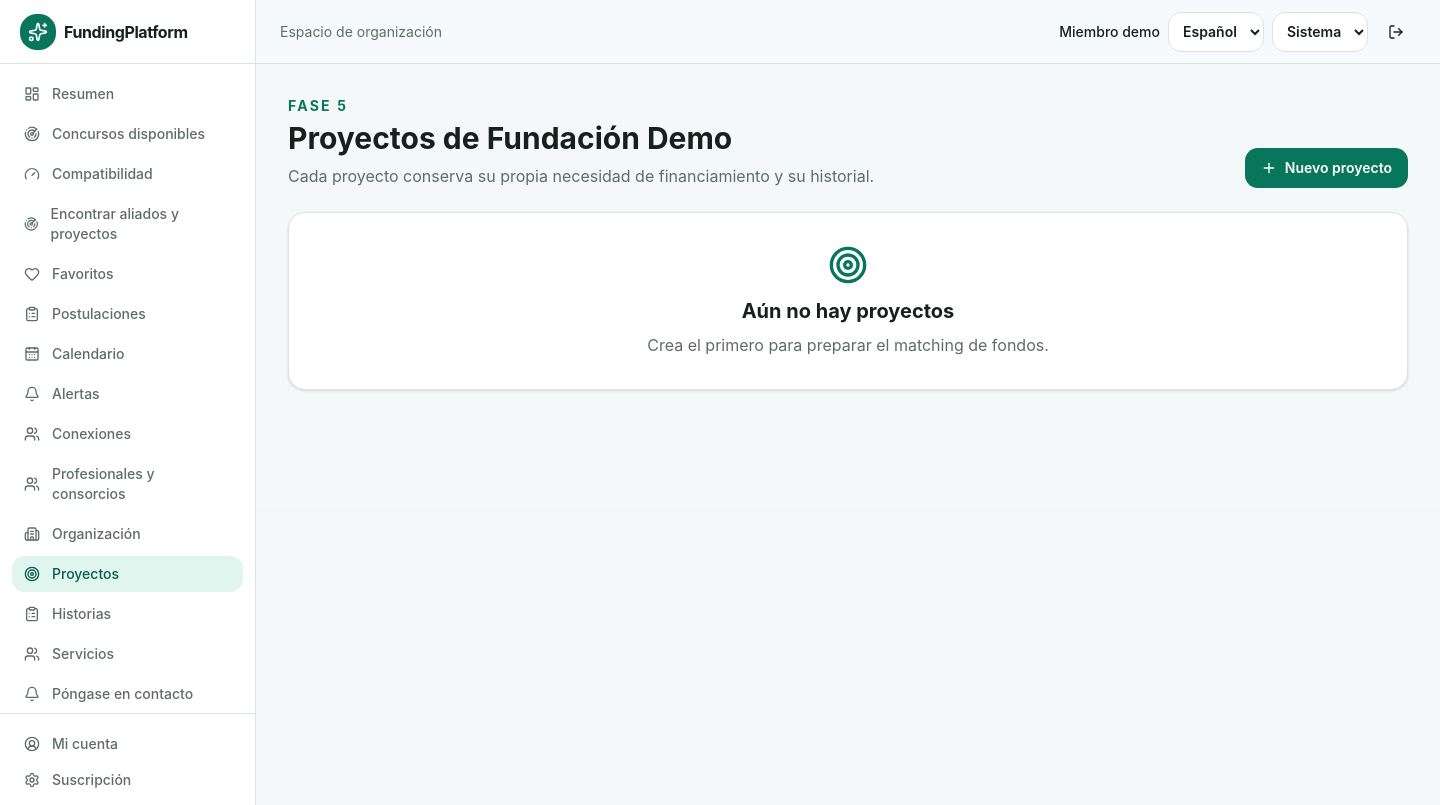
Test case: proyectos › avisa junto a la fecha cuando el término es anterior al inicio
This screenshot has width=1440, height=805.
Step 1. Click the button "Nuevo proyecto" → click(1326, 168), box [1245,148,1408,188]
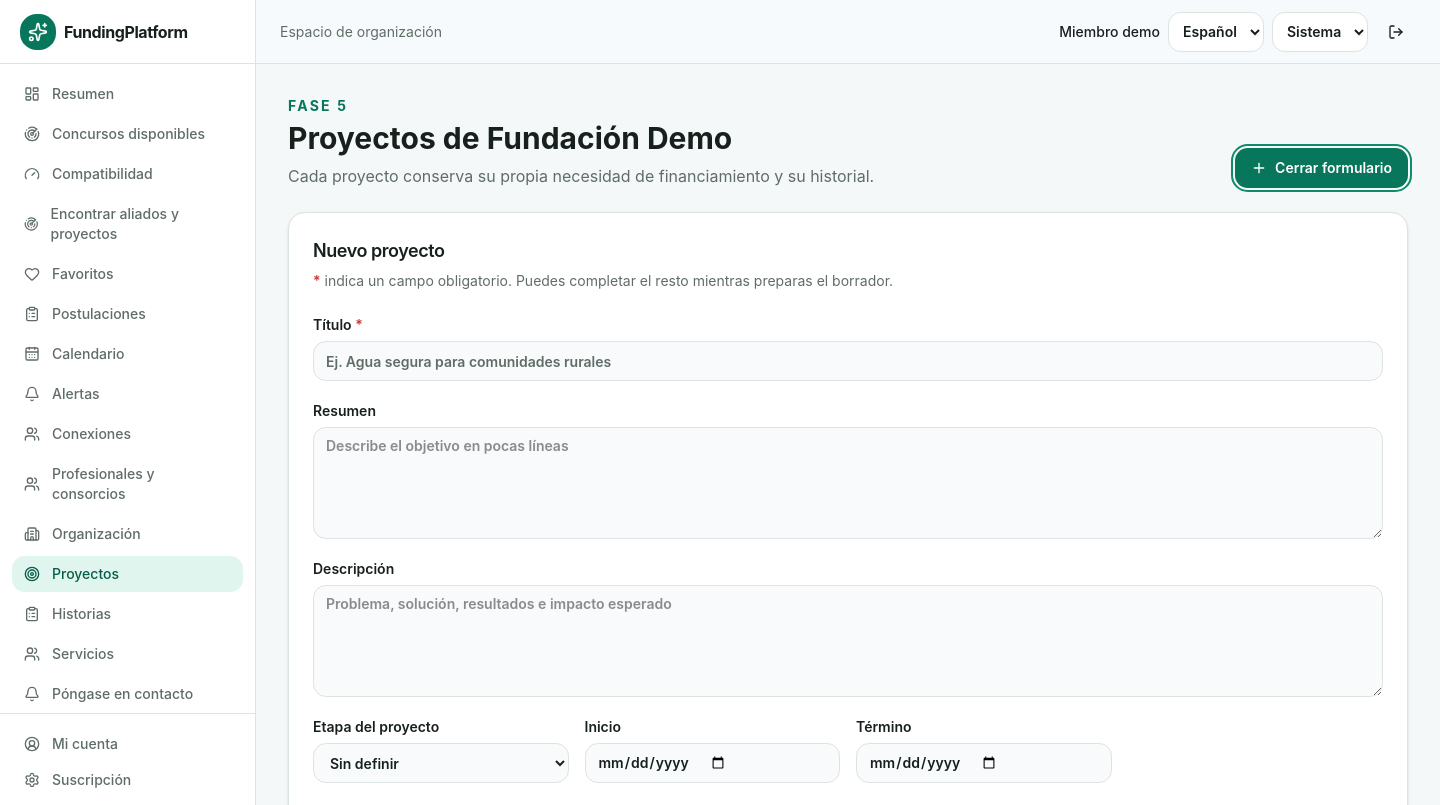
Step 2. Type "Proyecto con fechas" into the field labelled "Título *" → (848, 361), box [313,341,1383,381]
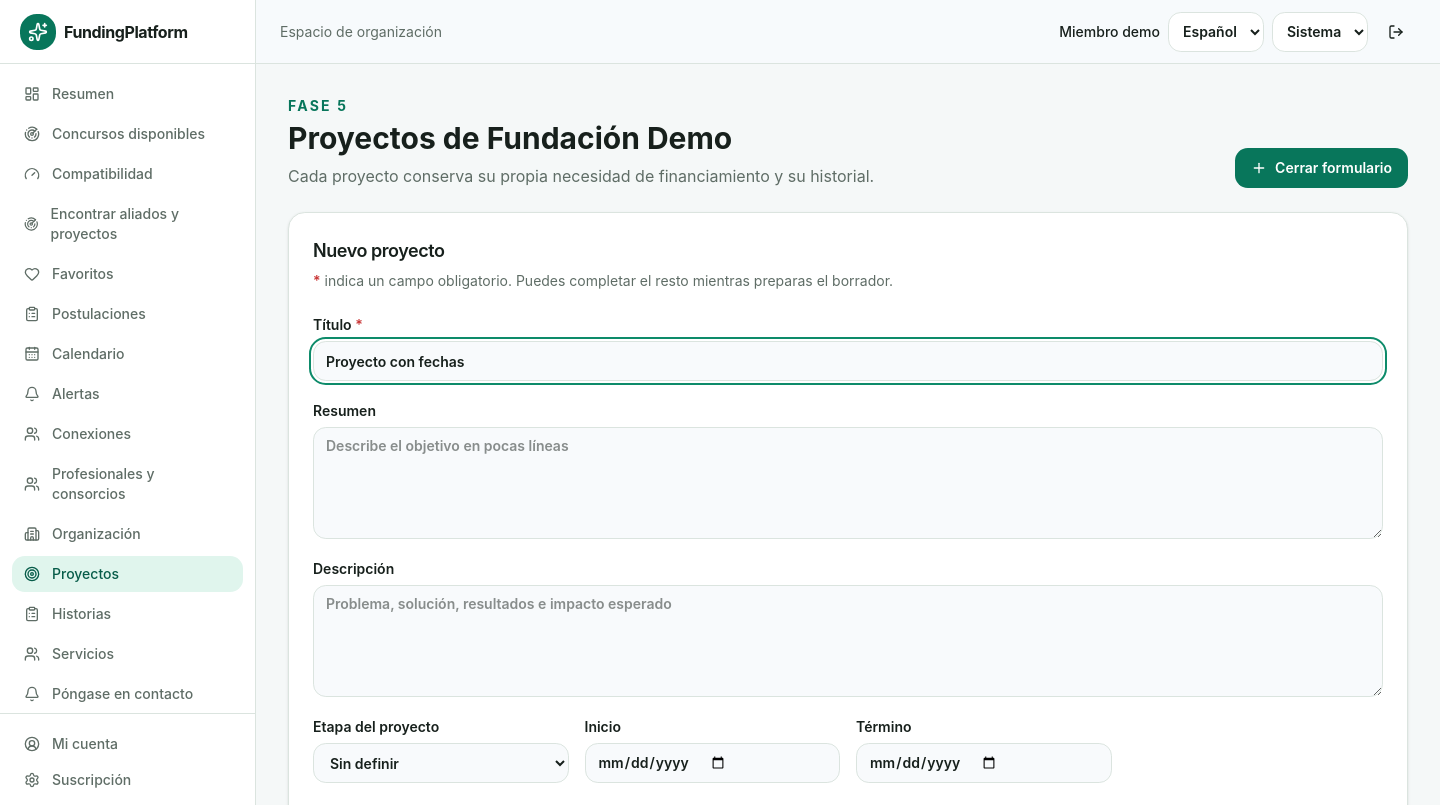
Step 3. Type "2027-12-31" into the date field labelled "Inicio" → (712, 763), box [584,743,840,783]
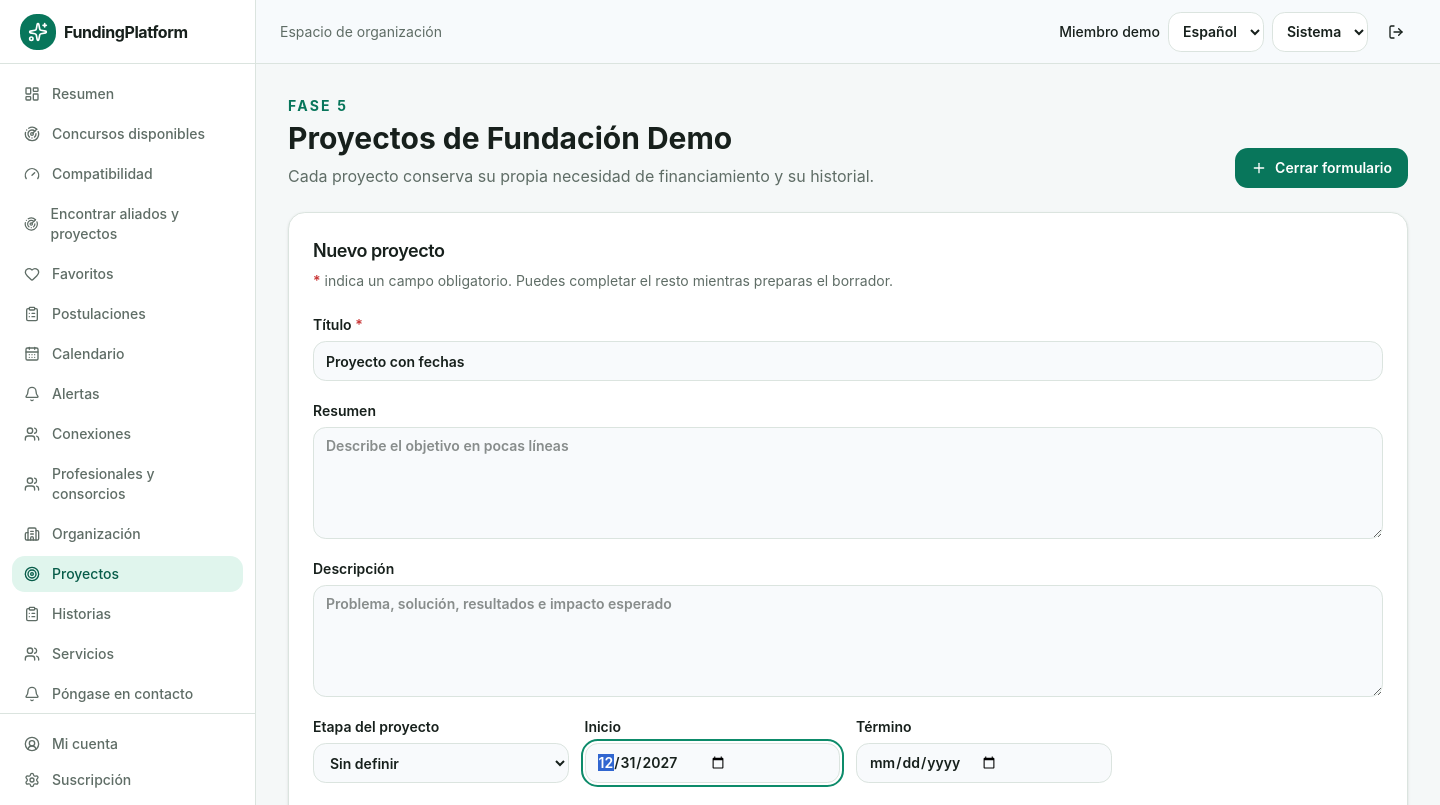
Step 4. Type "2027-01-01" into the date field labelled "Término" → (984, 763), box [856,743,1112,783]
(page scrolled)
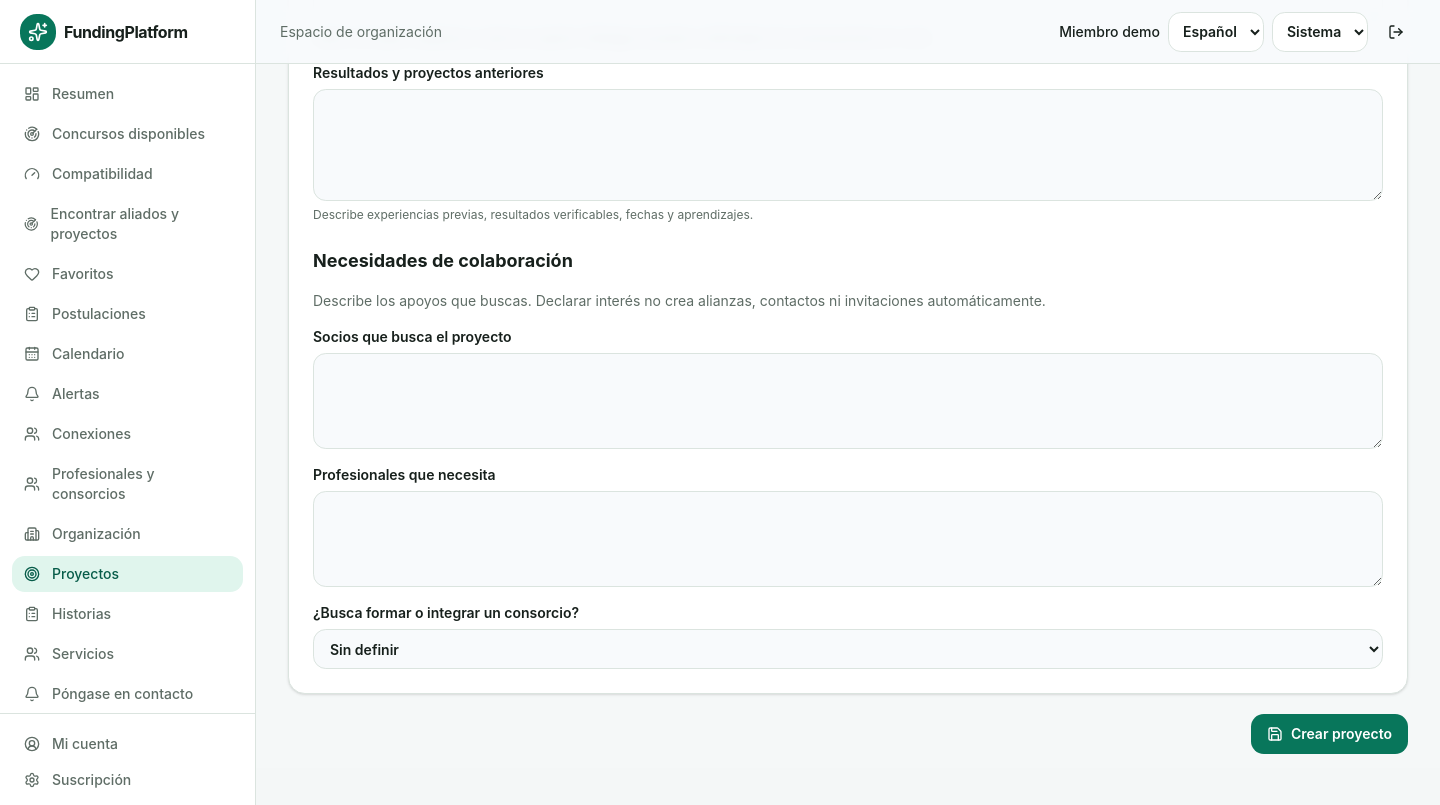
Step 5. Click the button "Crear proyecto" → click(1329, 734), box [1251,714,1408,754]
(page scrolled)
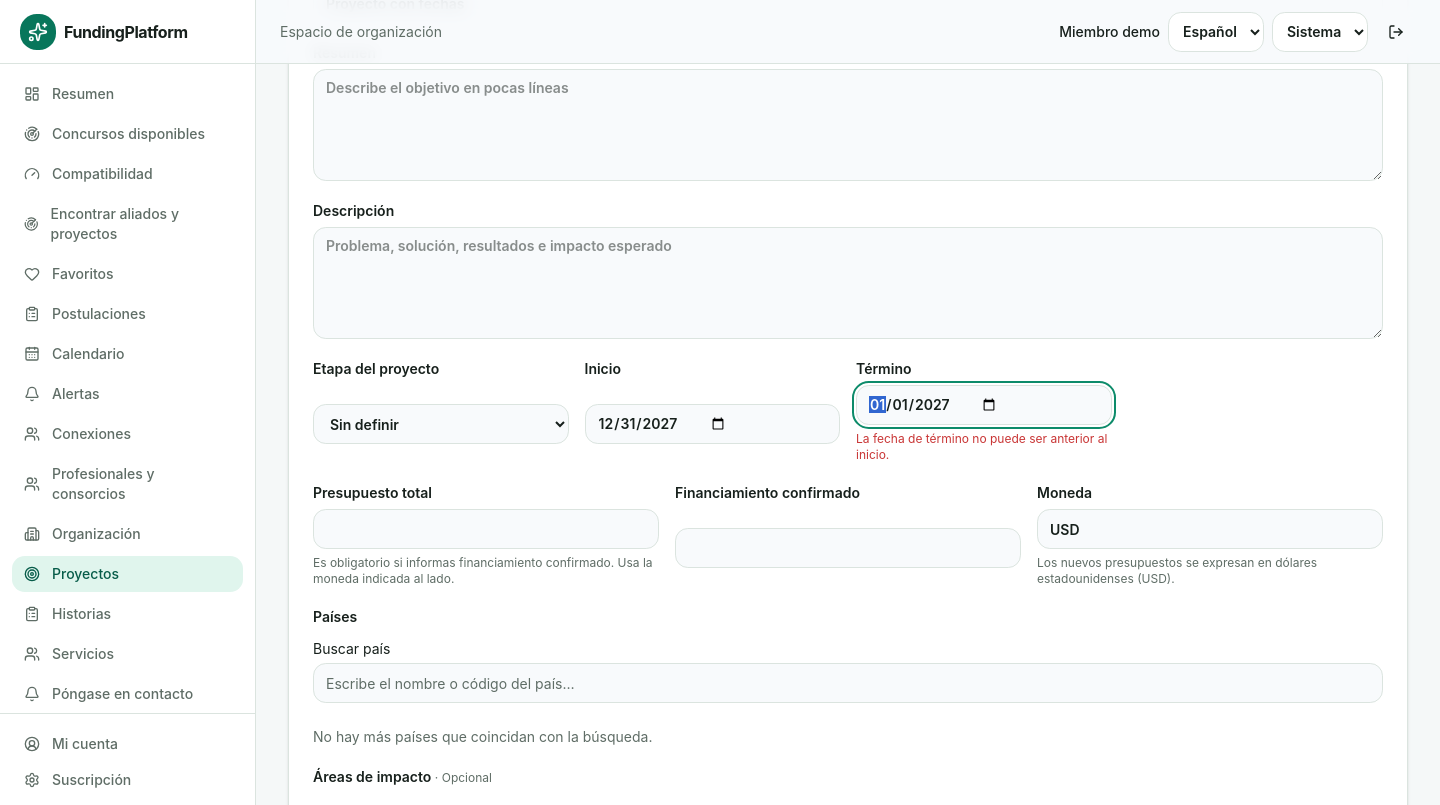
Expected: the text "La fecha de término no puede ser anterior al inicio." is shown, [856,431,1112,463]
